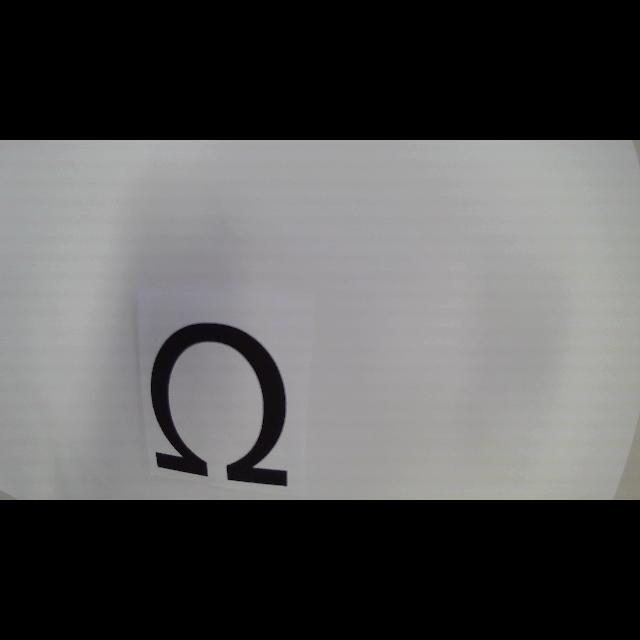OMEGA: (151, 322, 287, 486)
